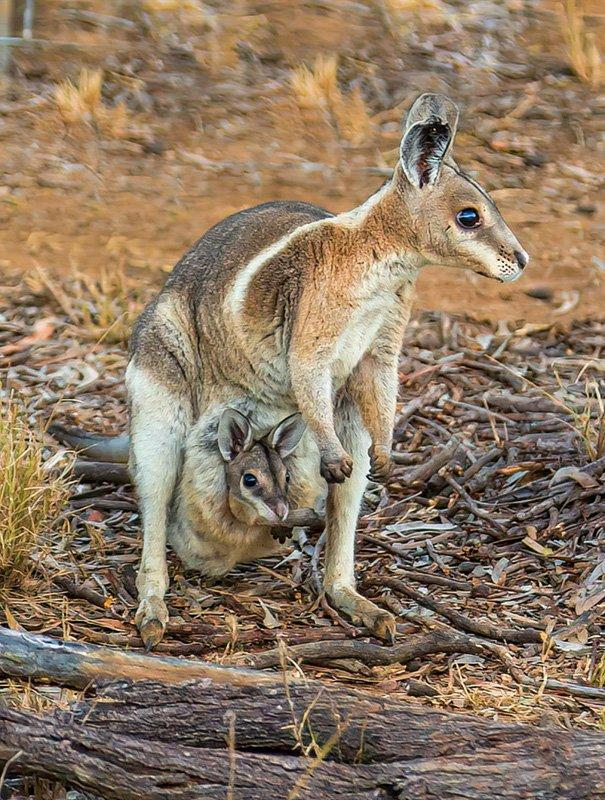Bridled-nail-tail wallaby: (43, 92, 531, 652), (214, 407, 322, 543)
